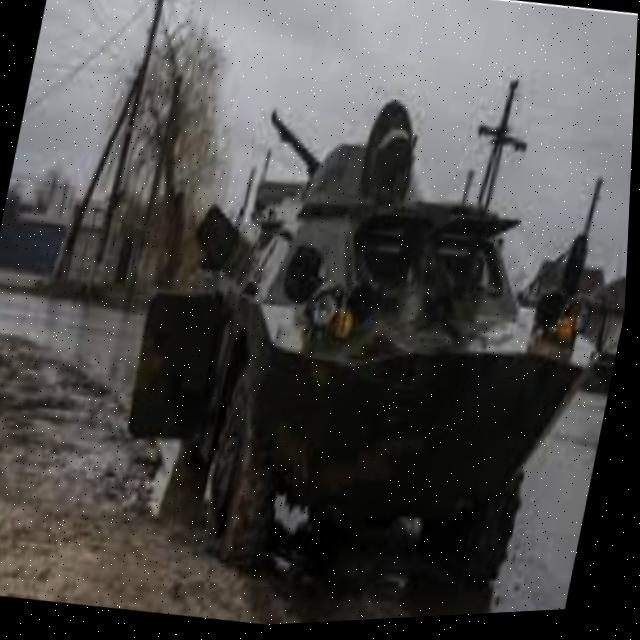MIL_APC: (91, 67, 637, 635)
